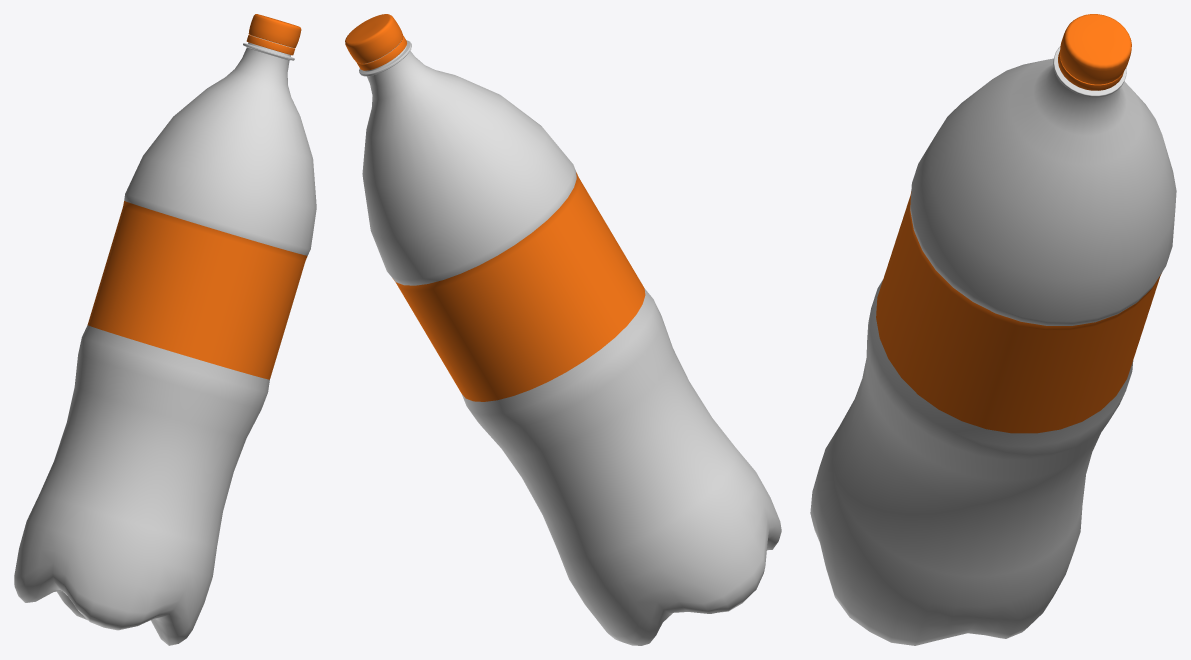
Rendered from Cola.fbx.
The picture shows the model from 3 angles, left to right: view 1: azimuth 30°, elevation 25°; view 2: azimuth 150°, elevation 25°; view 3: azimuth 270°, elevation 25°; orthographic projection. The views are drawn at different scales.
Visible parts, largest first — view 1: Colombiana 1.5L.001; view 2: Colombiana 1.5L.001; view 3: Colombiana 1.5L.001.
Boxes of the visible parts, left/top/right/bottom form: Colombiana 1.5L.001: left=14, top=14, right=316, bottom=645; Colombiana 1.5L.001: left=345, top=14, right=781, bottom=645; Colombiana 1.5L.001: left=810, top=14, right=1176, bottom=645.
Bounding box in the file's own units: 72.75 × 115 × 51.51.
